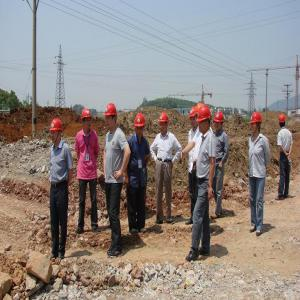red: (199, 105, 213, 136), (105, 104, 119, 132), (50, 116, 63, 146), (134, 112, 147, 140), (81, 107, 94, 134), (251, 112, 262, 139), (215, 110, 225, 133), (160, 111, 169, 136), (190, 106, 198, 130), (279, 113, 287, 130)
